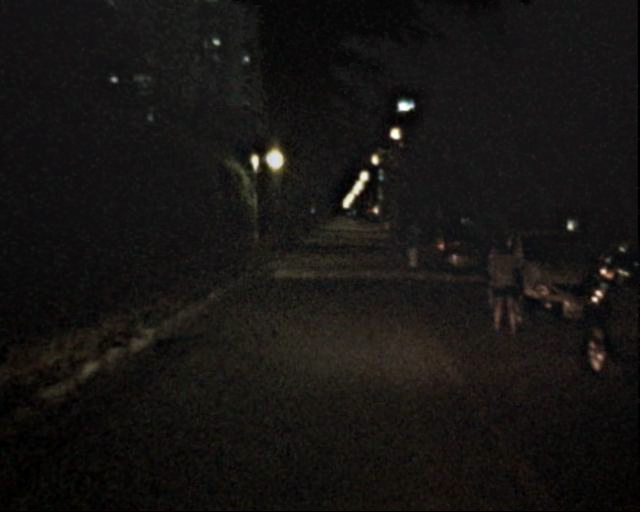person: (477, 236, 519, 339), (402, 218, 424, 271), (394, 226, 407, 258)
